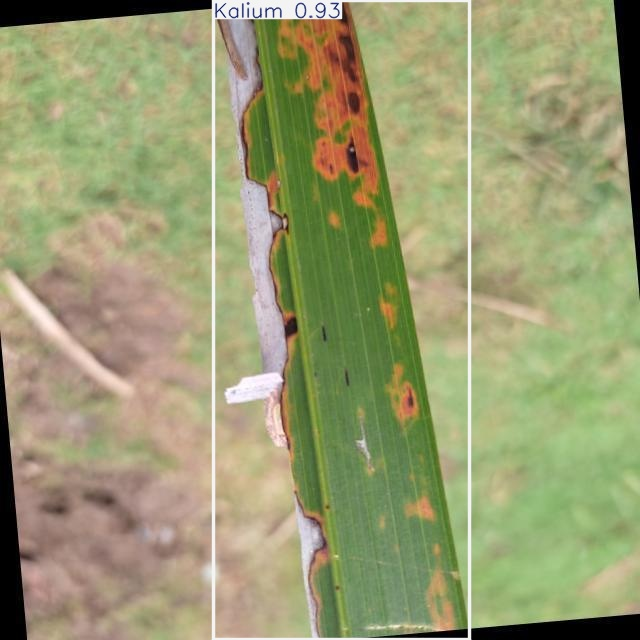Kalium: (214, 1, 469, 639)
